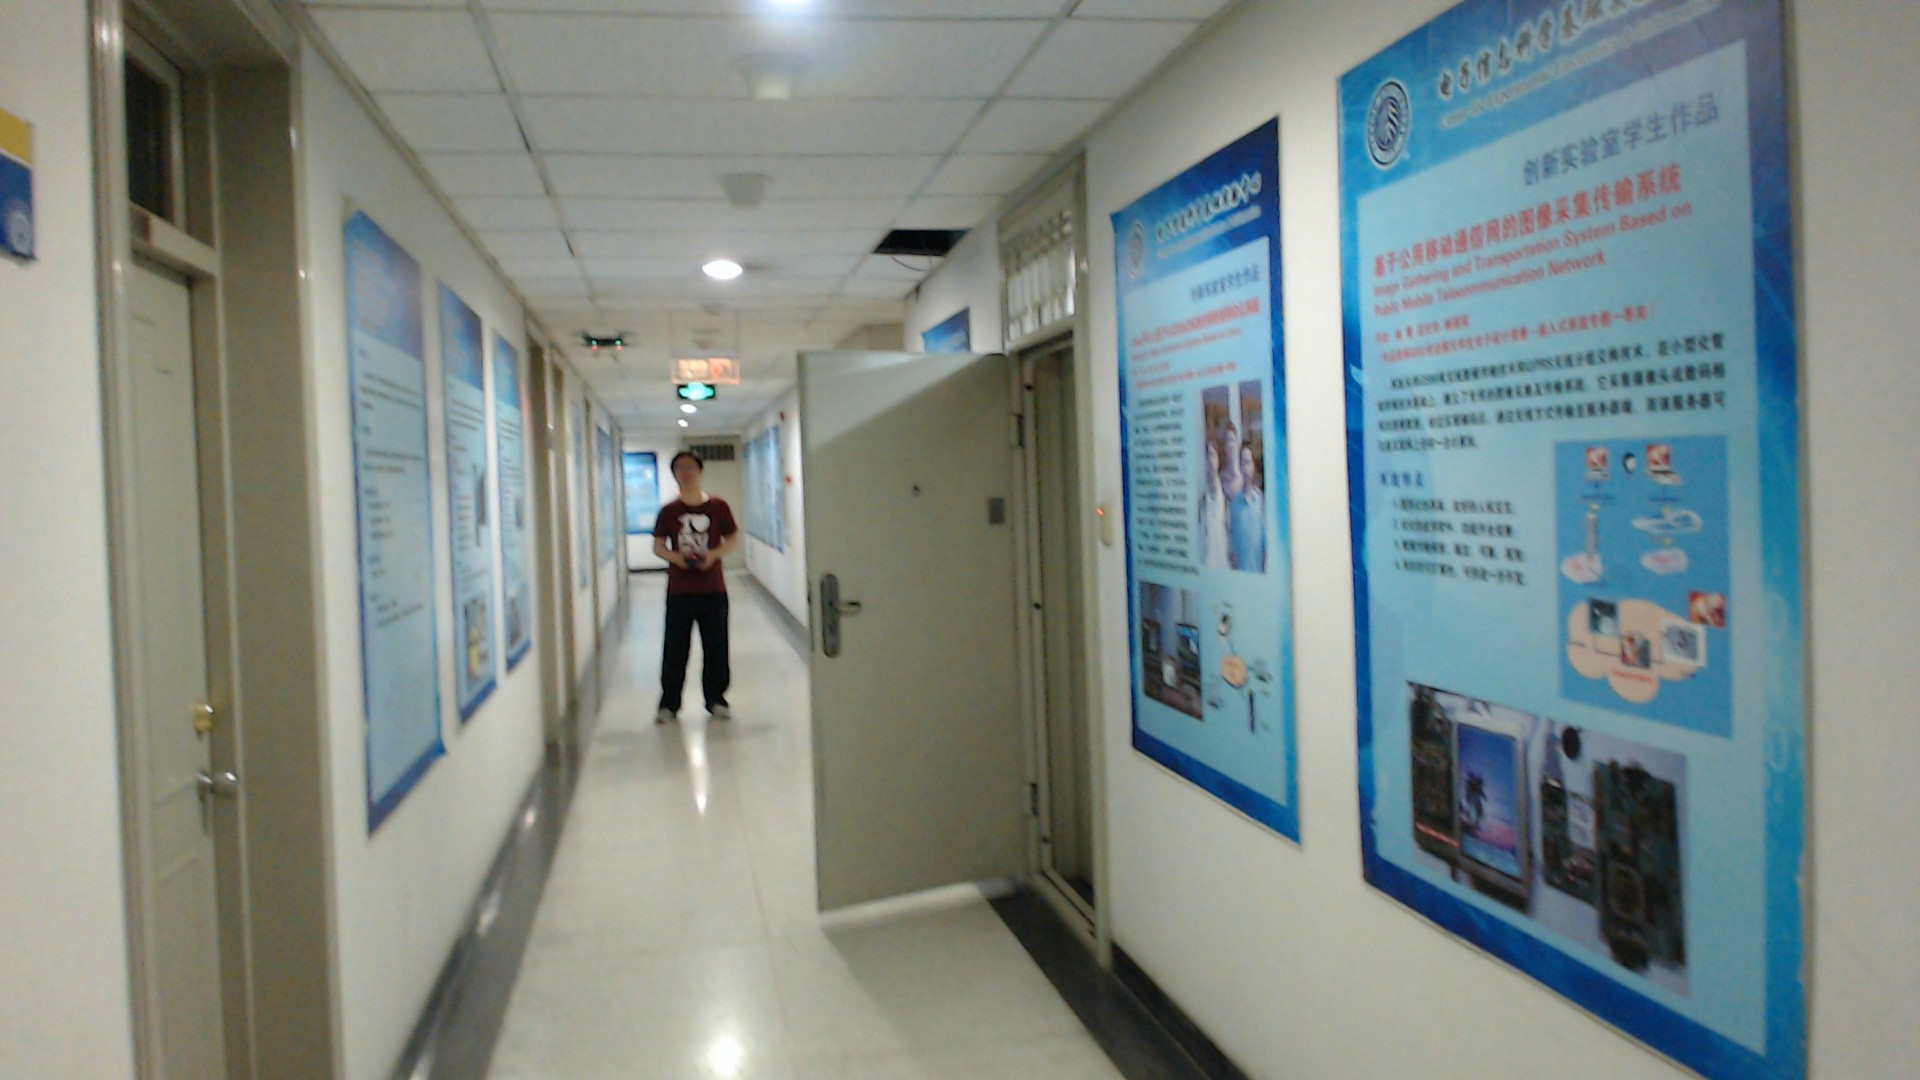human: (645, 448, 748, 736)
test_drone: (562, 323, 643, 363)
